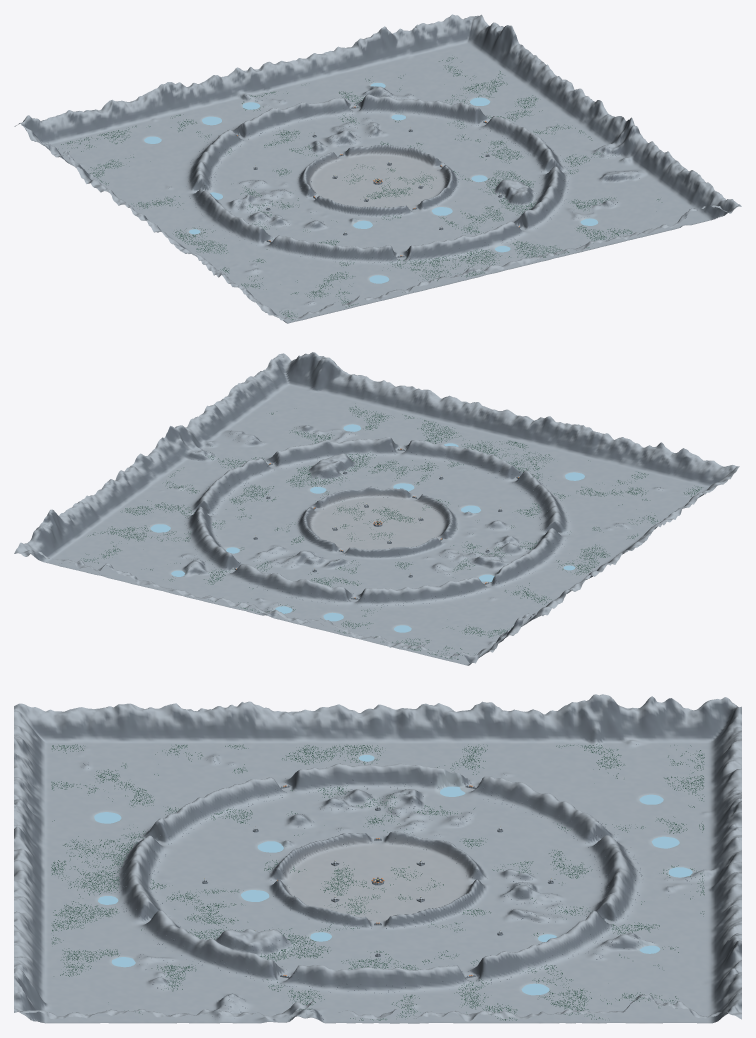
File: frost_map.glb
3 views of the same model, one above another, from view 1: azimuth 30°, elevation 25°; view 2: azimuth 150°, elevation 25°; view 3: azimuth 270°, elevation 25° (orthographic). The views are drawn at different scales.
Parts seen in each view (by area): view 1: Chunk_0_9, Chunk_0_3, Chunk_0_10, Chunk_0_11, Chunk_1_11, Chunk_0_1, Chunk_0_5, Chunk_0_4, Chunk_0_6, Chunk_0_8, Chunk_0_2, Chunk_0_7 (+114 smaller); view 2: Chunk_11_11, Chunk_11_10, Chunk_11_4, Chunk_11_1, Chunk_11_3, Chunk_11_2, Chunk_11_8, Chunk_11_5, Chunk_11_7, Chunk_11_9, Chunk_11_6, Chunk_6_11 (+114 smaller); view 3: Chunk_2_0, Chunk_1_0, Chunk_4_0, Chunk_10_0, Chunk_8_0, Chunk_5_0, Chunk_9_0, Chunk_6_0, Chunk_7_0, Chunk_0_0, Chunk_3_0, Chunk_11_0 (+132 smaller).
Part boxes in pixels (x1,y1,x2,y2): Chunk_0_9: [360, 26, 420, 73]; Chunk_0_3: [130, 82, 189, 129]; Chunk_0_10: [399, 22, 458, 63]; Chunk_0_11: [437, 14, 490, 54]; Chunk_1_11: [459, 22, 519, 70]; Chunk_0_1: [53, 110, 112, 148]; Chunk_0_5: [206, 67, 266, 110]; Chunk_0_4: [168, 80, 227, 120]; Chunk_0_6: [245, 60, 304, 101]; Chunk_0_8: [322, 38, 381, 82]; Chunk_0_2: [91, 99, 151, 138]; Chunk_0_7: [284, 53, 343, 92]; Chunk_11_11: [260, 352, 317, 396]; Chunk_11_10: [297, 355, 356, 405]; Chunk_11_4: [528, 416, 587, 462]; Chunk_11_1: [643, 447, 702, 490]; Chunk_11_3: [566, 427, 625, 471]; Chunk_11_2: [605, 438, 664, 481]; Chunk_11_8: [374, 385, 433, 424]; Chunk_11_5: [489, 411, 547, 452]; Chunk_11_7: [412, 393, 471, 434]; Chunk_11_9: [335, 375, 394, 415]; Chunk_11_6: [451, 402, 510, 443]; Chunk_6_11: [148, 427, 207, 477]; Chunk_2_0: [560, 694, 620, 754]; Chunk_1_0: [620, 696, 681, 754]; Chunk_4_0: [438, 701, 499, 754]; Chunk_10_0: [74, 703, 135, 754]; Chunk_8_0: [196, 701, 256, 754]; Chunk_5_0: [378, 703, 438, 754]; Chunk_9_0: [135, 703, 195, 754]; Chunk_6_0: [317, 704, 377, 754]; Chunk_7_0: [256, 705, 317, 754]; Chunk_0_0: [681, 697, 741, 754]; Chunk_3_0: [499, 707, 559, 754]; Chunk_11_0: [14, 703, 74, 754].
Bounding box in the file's own units: 1200 × 76.11 × 1200.
